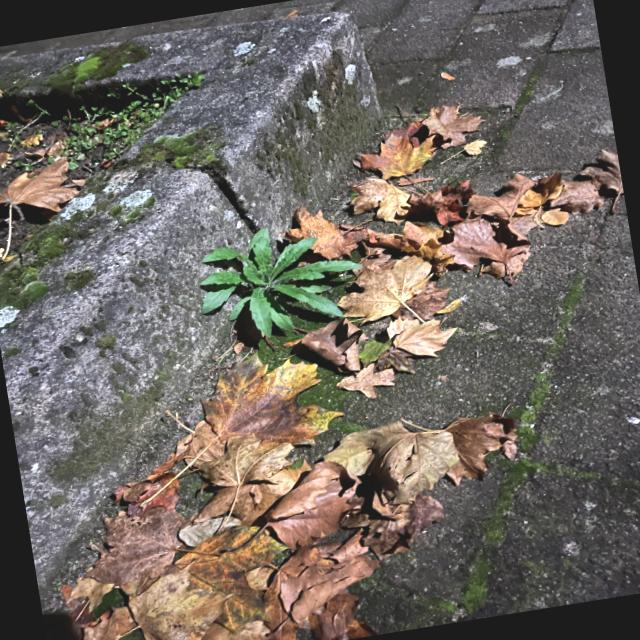leaves: (39, 106, 625, 639)
weed: (191, 231, 357, 336)
weedling: (519, 272, 590, 438)
